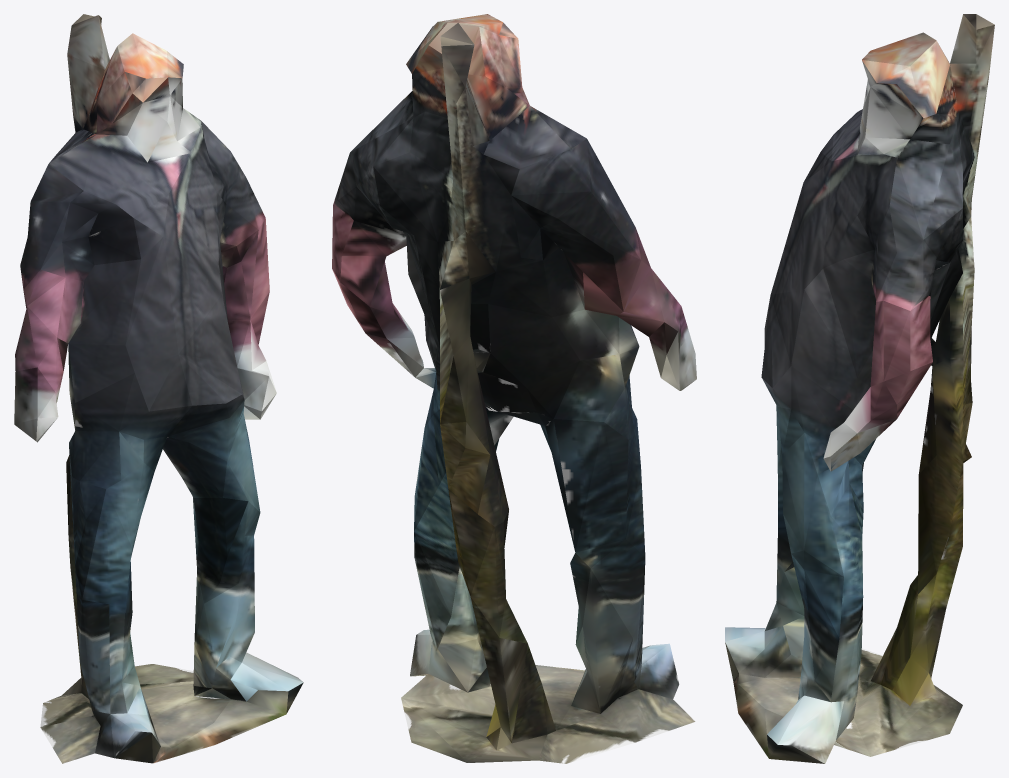
The model's file is kakashi_10b.fbx.
The picture shows the model from 3 angles, left to right: view 1: azimuth 30°, elevation 25°; view 2: azimuth 150°, elevation 25°; view 3: azimuth 270°, elevation 25°; orthographic projection. The views are drawn at different scales.
Parts seen in each view (by area): view 1: kakashi_10:Mesh; view 2: kakashi_10:Mesh; view 3: kakashi_10:Mesh.
Part boxes in pixels (<box>): kakashi_10:Mesh: <box>14,14,303,763</box>; kakashi_10:Mesh: <box>332,14,696,763</box>; kakashi_10:Mesh: <box>725,14,994,763</box>.
Bounding box in the file's own units: 12.61 × 28.47 × 10.02.
1 material, 1 textured.
